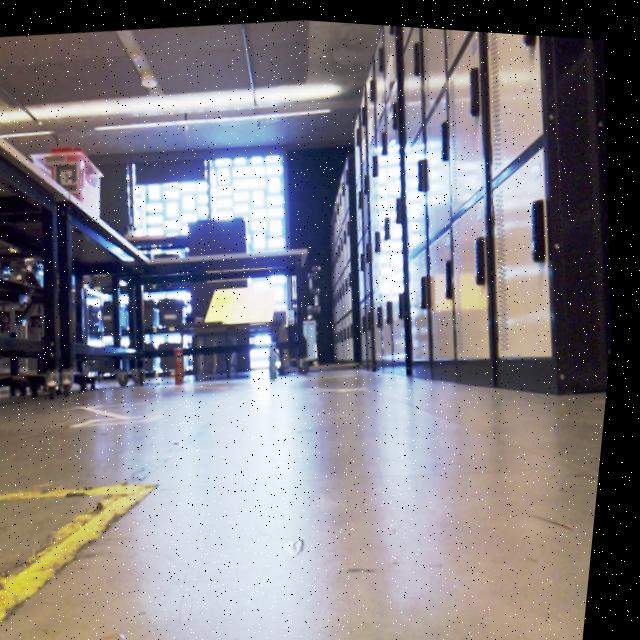greenpringles: (267, 329, 292, 378)
redpringles: (170, 332, 200, 391)
